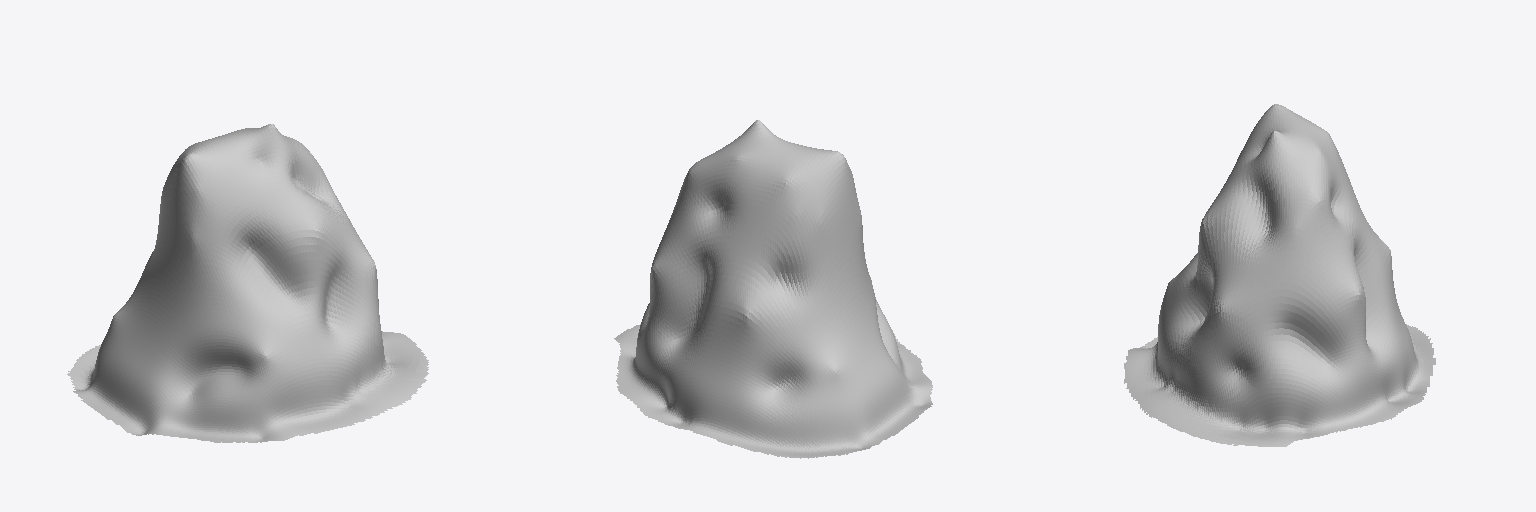
File: rock1.obj
The picture shows the model from 3 angles: view 1: azimuth 30°, elevation 25°; view 2: azimuth 150°, elevation 25°; view 3: azimuth 270°, elevation 25°; orthographic projection.
Parts seen in each view (by area): view 1: Plane_Plane.001; view 2: Plane_Plane.001; view 3: Plane_Plane.001.
Boxes of the visible parts, x1=… form: Plane_Plane.001: x1=67, y1=124, x2=428, y2=442; Plane_Plane.001: x1=614, y1=120, x2=932, y2=458; Plane_Plane.001: x1=1124, y1=104, x2=1435, y2=446.
Size of the model in its own units: 30.08 by 24.98 by 26.95.